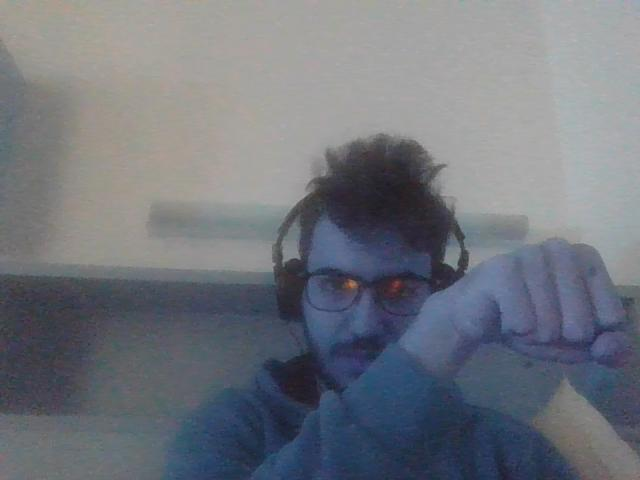yes: (464, 233, 638, 370)
